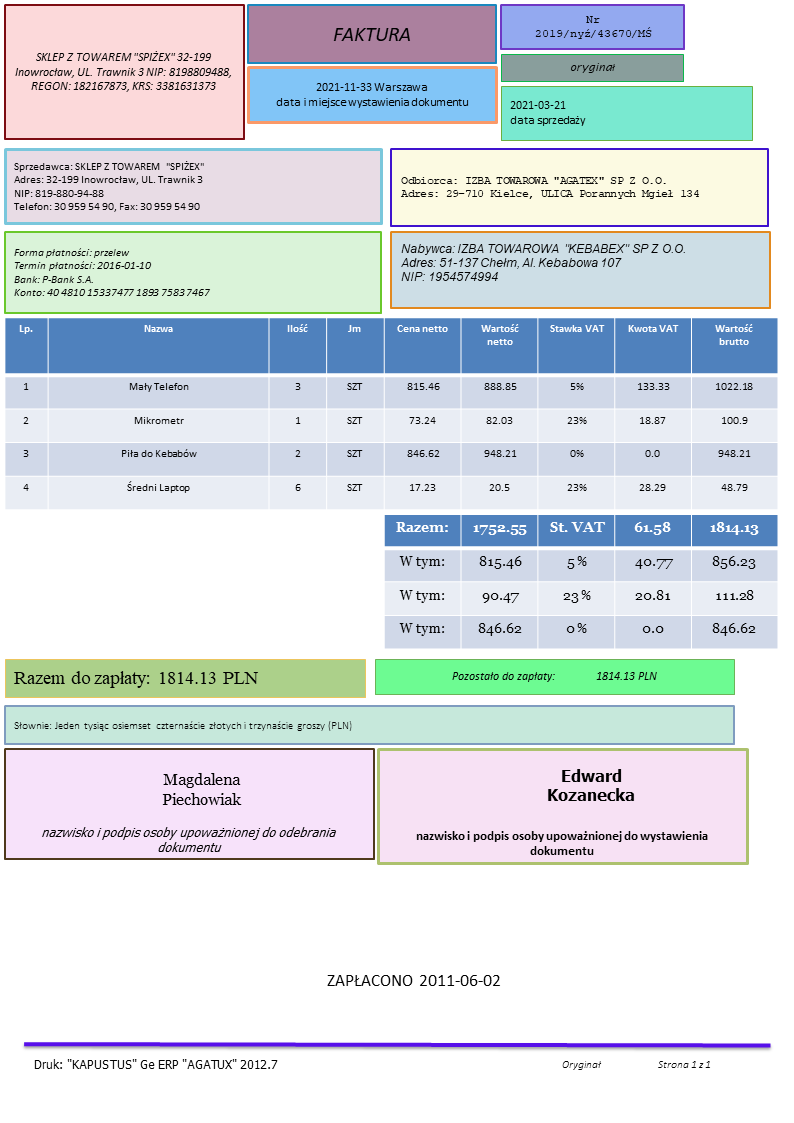Table: (1, 315, 780, 511), (382, 515, 781, 652)
TextBox: (395, 236, 692, 286), (10, 243, 213, 304), (10, 157, 206, 215), (412, 824, 713, 861), (10, 48, 236, 96), (397, 170, 704, 205), (37, 822, 341, 855), (8, 711, 357, 736), (272, 76, 472, 110), (8, 664, 258, 691), (27, 1053, 281, 1078), (322, 965, 508, 996), (448, 664, 663, 687), (544, 760, 638, 809), (532, 11, 656, 45), (158, 768, 244, 812), (505, 93, 588, 133), (557, 1053, 714, 1073), (329, 21, 412, 46), (567, 60, 619, 77)
